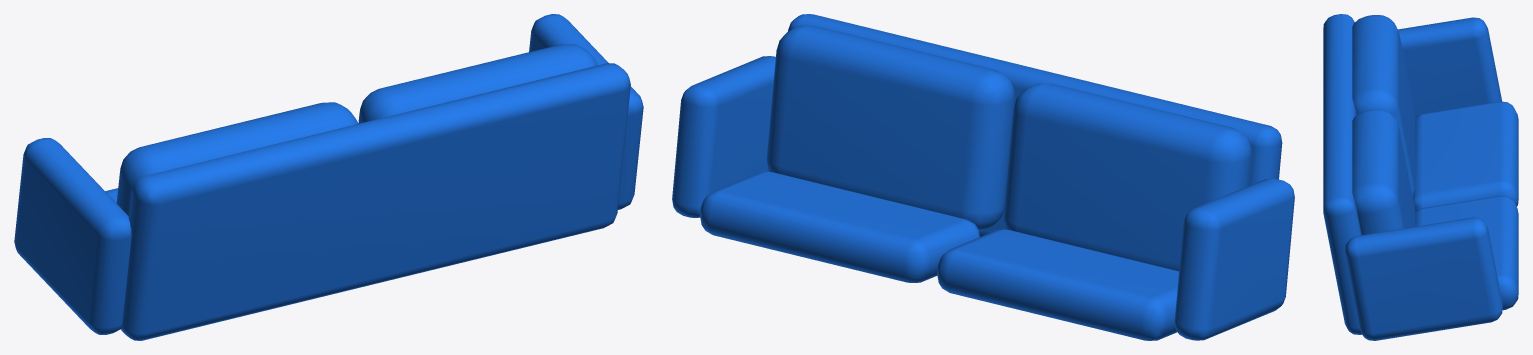
Rendered from EM_Seat.fbx.
3 renders of one model, left to right at view 1: azimuth 30°, elevation 25°; view 2: azimuth 150°, elevation 25°; view 3: azimuth 270°, elevation 25°, orthographic. The views are drawn at different scales.
Parts seen in each view (by area): view 1: EM_Seat; view 2: EM_Seat; view 3: EM_Seat.
Boxes of the visible parts, box(x1,y1,x2,y2) form: EM_Seat: box(14, 14, 643, 340); EM_Seat: box(672, 14, 1294, 340); EM_Seat: box(1323, 14, 1518, 340).
Size of the model in its own units: 4.54 by 1.41 by 1.75.
